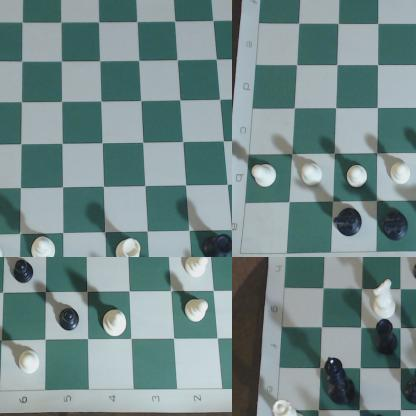black-king: (324, 354, 360, 406)
black-knight: (378, 207, 414, 245), (333, 204, 365, 241), (404, 368, 416, 406)
black-pawn: (11, 258, 39, 290), (57, 305, 82, 335)
black-rook: (375, 317, 399, 357), (202, 231, 232, 257)
white-bishop: (30, 230, 58, 257)
white-knight: (371, 277, 401, 322)
white-pawn: (244, 150, 284, 191), (15, 344, 54, 384), (179, 291, 214, 330), (295, 156, 331, 191), (102, 307, 134, 343), (385, 155, 416, 190), (342, 164, 377, 192), (184, 258, 220, 284), (411, 333, 416, 364)
white-queen: (271, 400, 314, 416)
white-rook: (117, 236, 147, 257)
